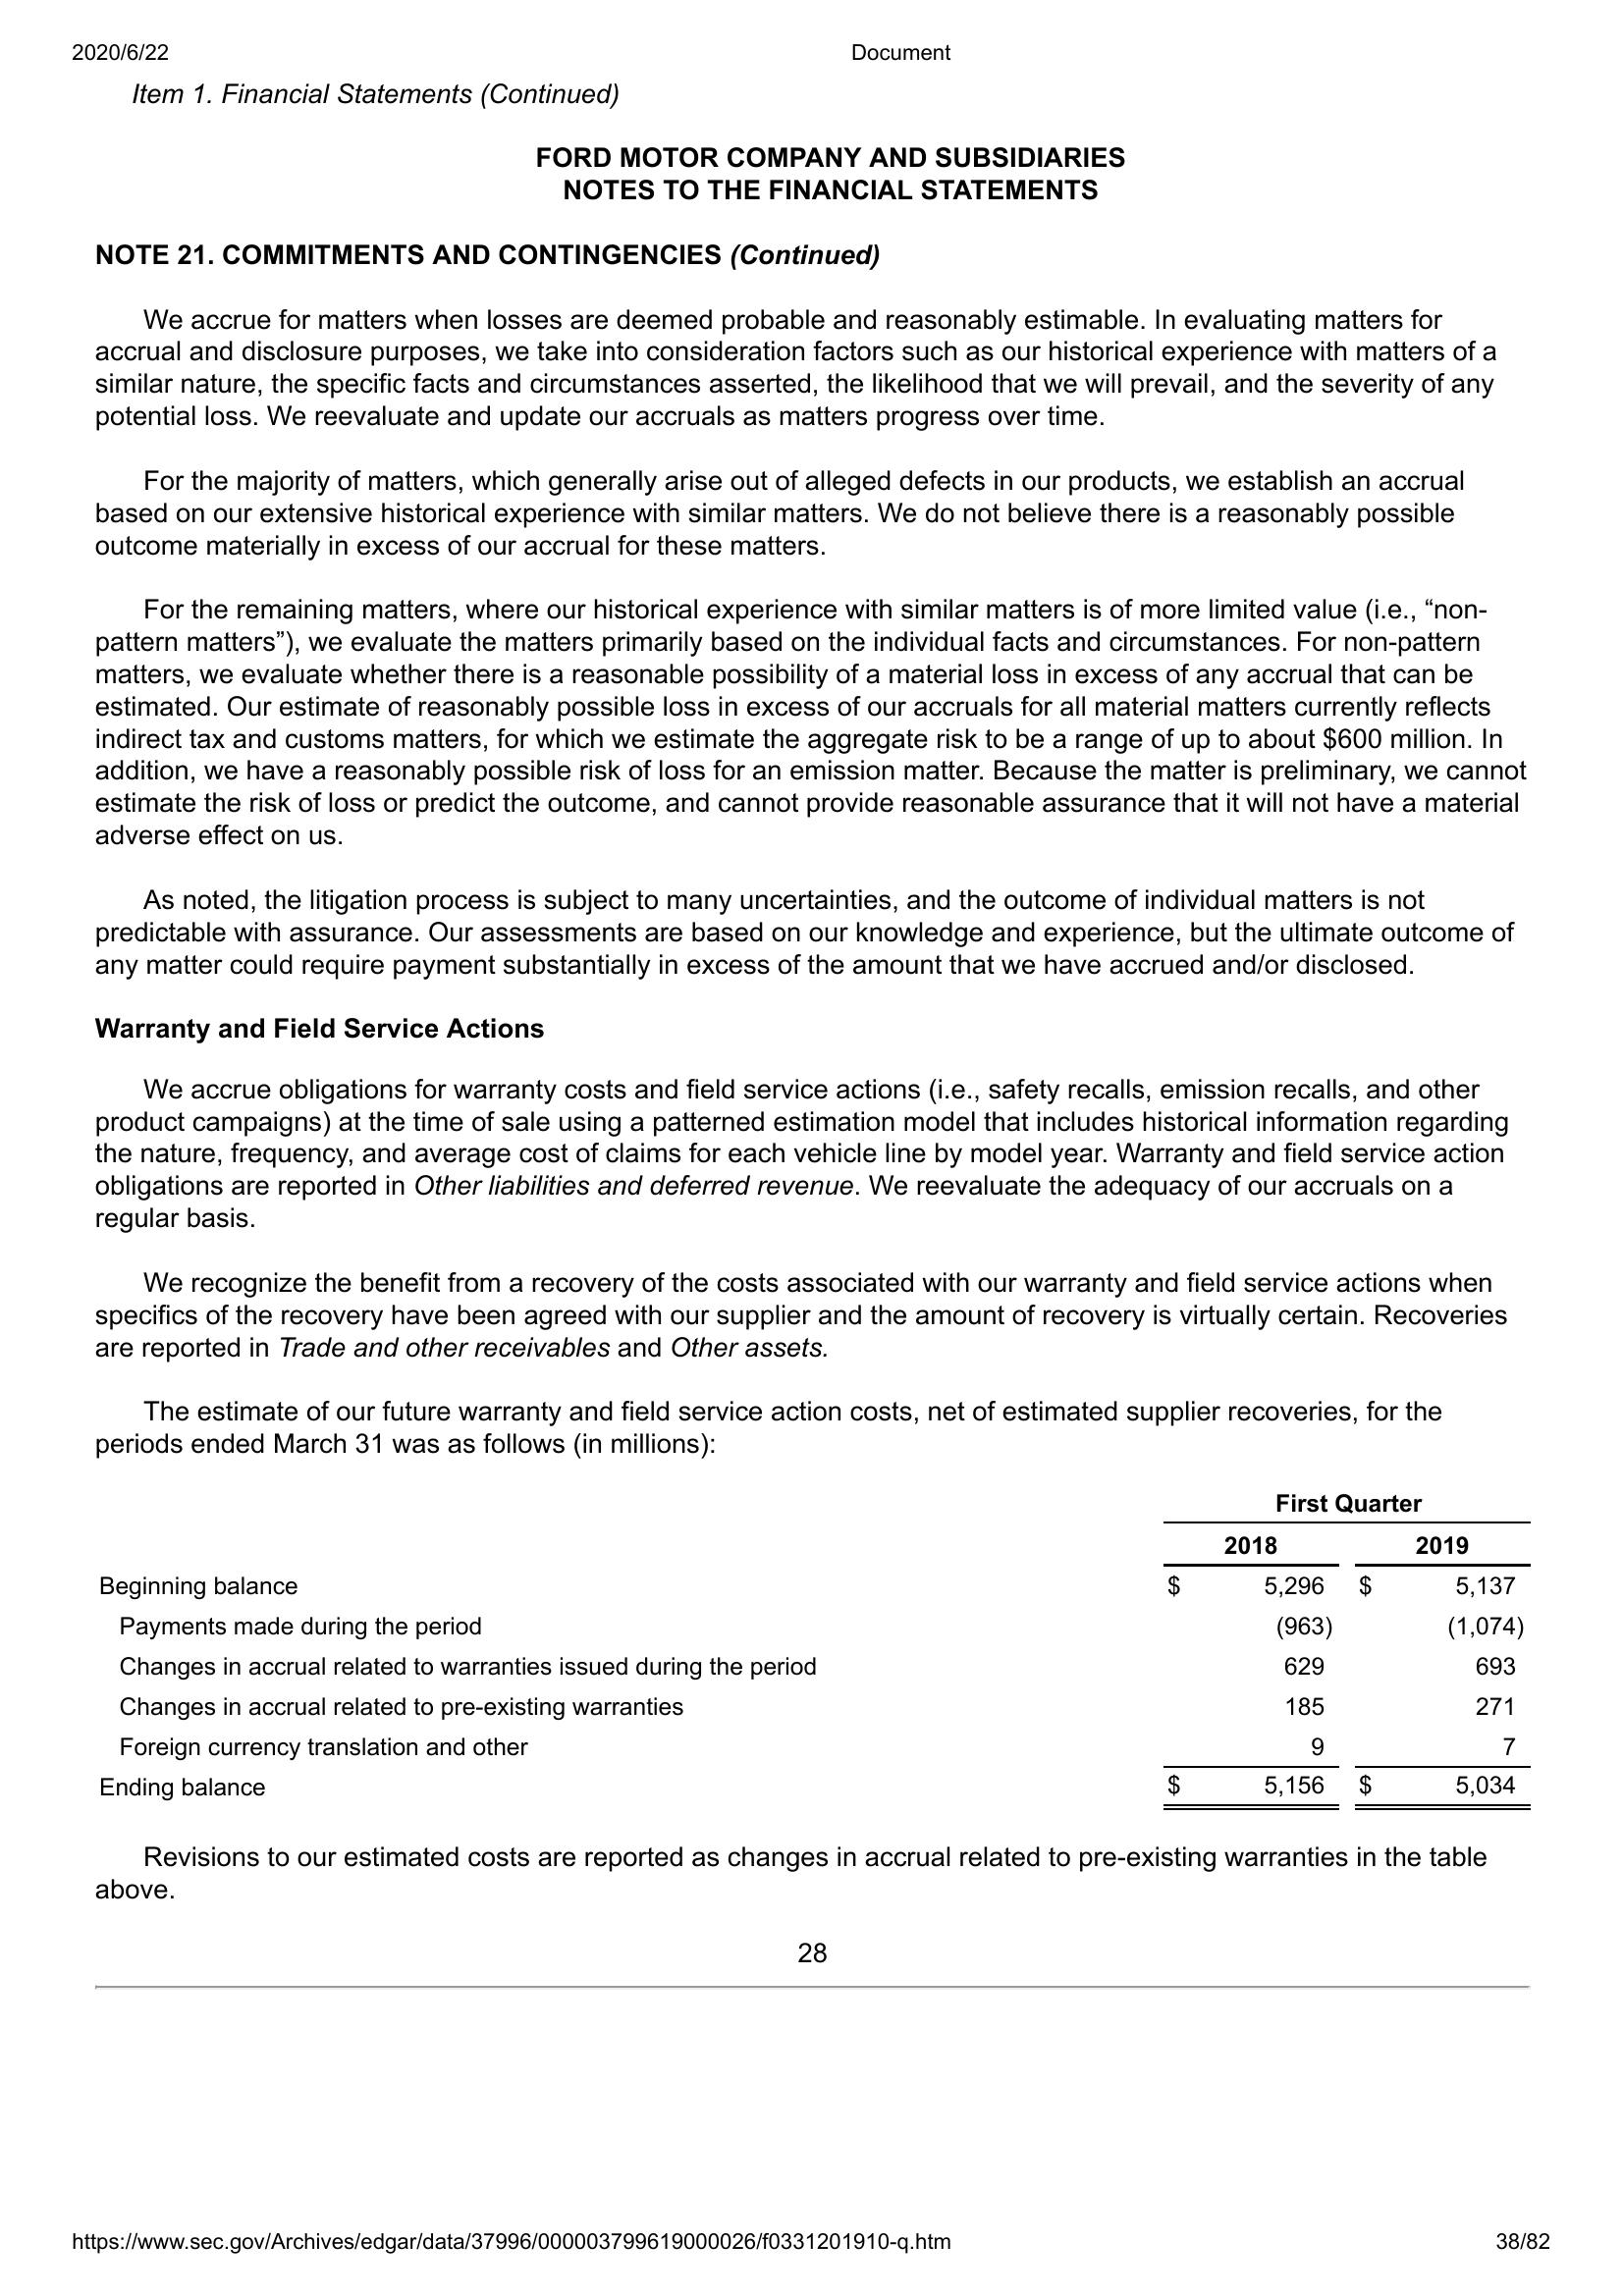table: (90, 1487, 1535, 1815)
